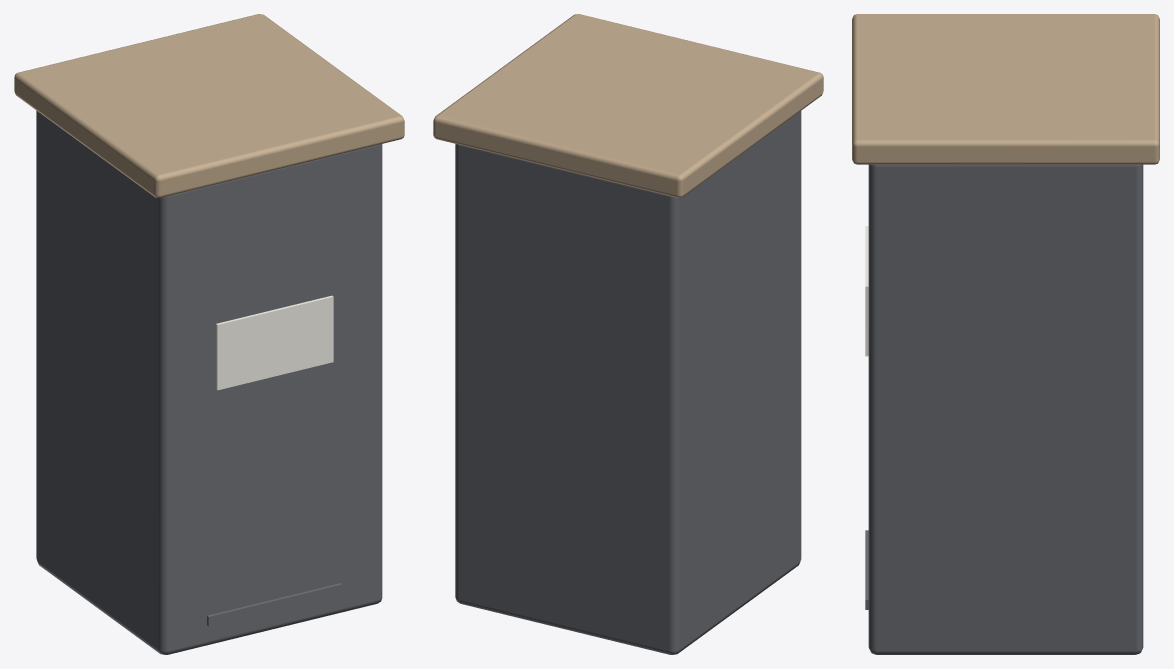
The model's file is human-anatomy-and-education-kit-display-plinth-tall-07f5859d__38964.glb.
The picture shows the model from 3 angles, left to right: view 1: azimuth 30°, elevation 25°; view 2: azimuth 150°, elevation 25°; view 3: azimuth 270°, elevation 25°; orthographic projection. The views are drawn at different scales.
Parts seen in each view (by area): view 1: display-plinth-tall; view 2: display-plinth-tall; view 3: display-plinth-tall.
Part boxes in pixels (bbox=[...]): display-plinth-tall: bbox=[14, 14, 404, 654]; display-plinth-tall: bbox=[433, 14, 823, 654]; display-plinth-tall: bbox=[852, 14, 1159, 654].
Bounding box in the file's own units: 0.56 × 1.05 × 0.56.
